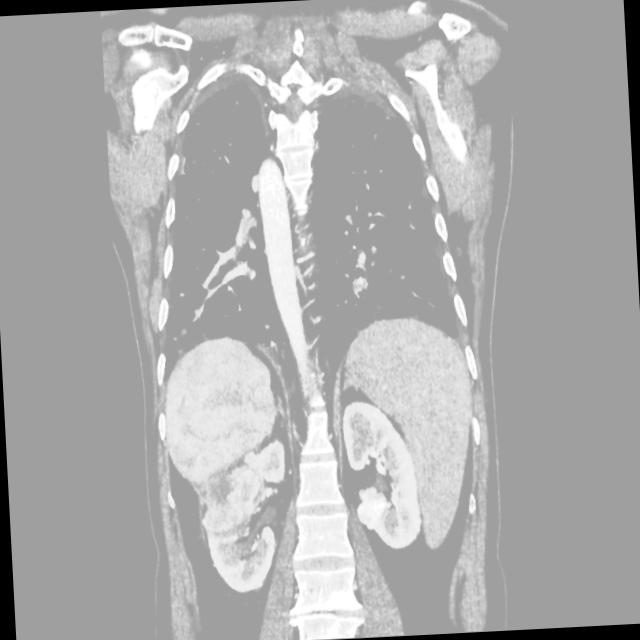TUMOR: (108, 245, 587, 554)
